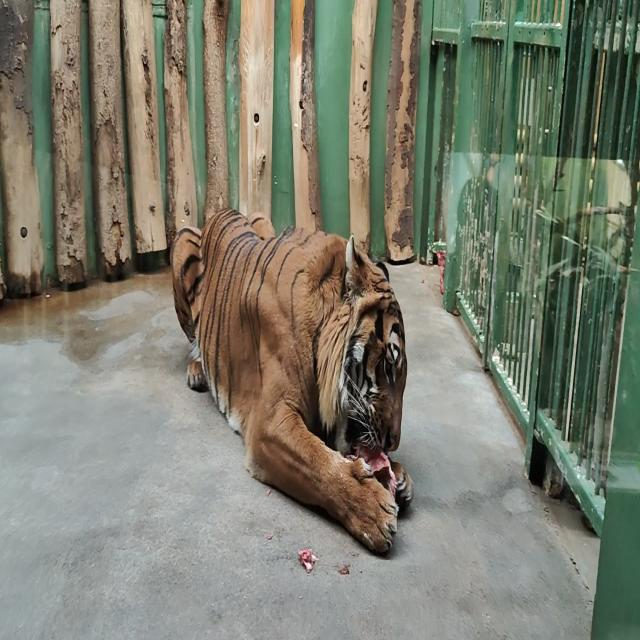tiger: (171, 206, 414, 556)
